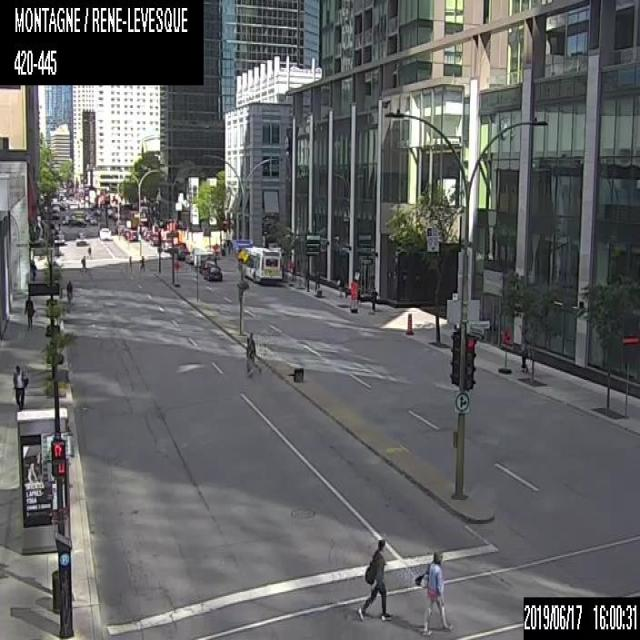bus: (243, 244, 281, 283)
construction: (350, 282, 361, 312), (404, 311, 416, 336), (288, 365, 304, 383)
pedestrian: (356, 537, 393, 623), (416, 549, 450, 631), (244, 325, 262, 376), (11, 363, 25, 409), (517, 342, 529, 370), (23, 291, 32, 328), (368, 286, 377, 314), (80, 255, 88, 278), (66, 279, 74, 301), (30, 257, 37, 280), (314, 265, 321, 288), (139, 252, 146, 273), (128, 253, 133, 279), (86, 244, 91, 260)
vehicle: (201, 262, 223, 280), (198, 253, 215, 274), (149, 231, 161, 245), (98, 227, 110, 240), (125, 229, 138, 240), (75, 230, 85, 244), (52, 233, 64, 244), (89, 215, 97, 224)
